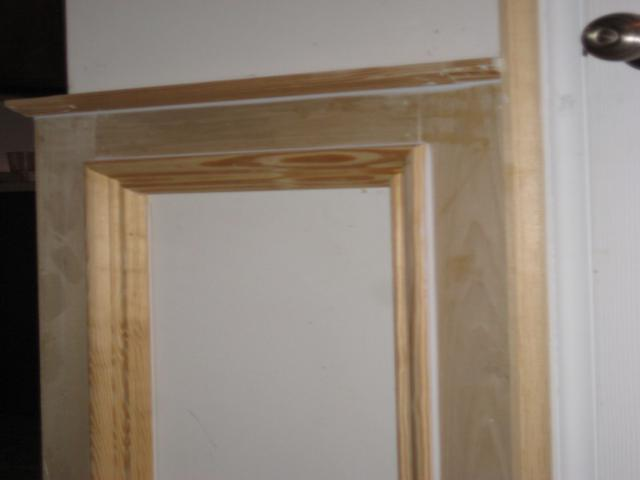Door-handle: (580, 10, 639, 69)
